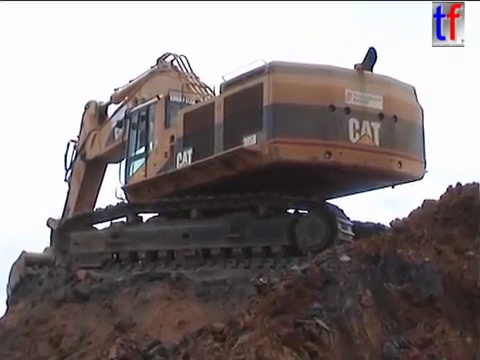excavator: (3, 43, 431, 317)
